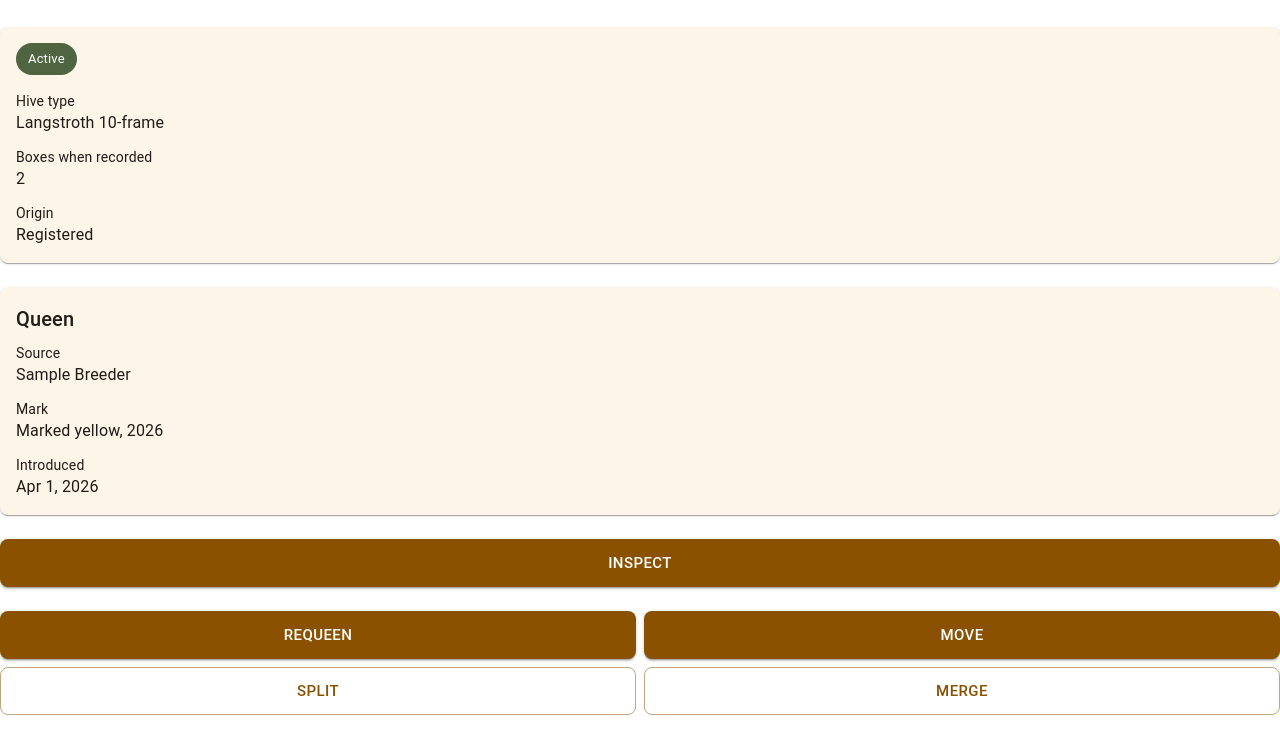
Test: ColonyDetail › should show the warning and keep the change when the API records a requeen with one
Click the button "Requeen". click: (318, 635)
box: left=0, top=611, right=636, bottom=659
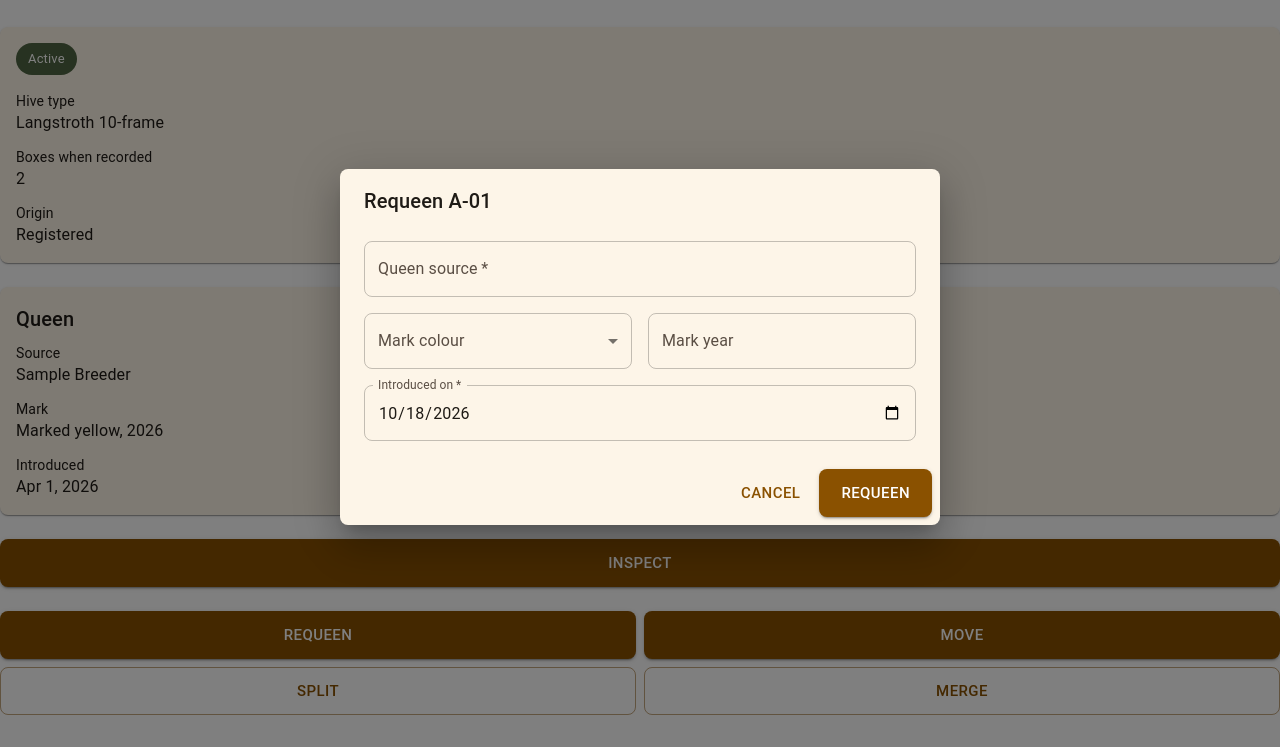
Type "Raised here" into the field labelled "Queen source *". click: (640, 269)
box: left=364, top=241, right=916, bottom=297
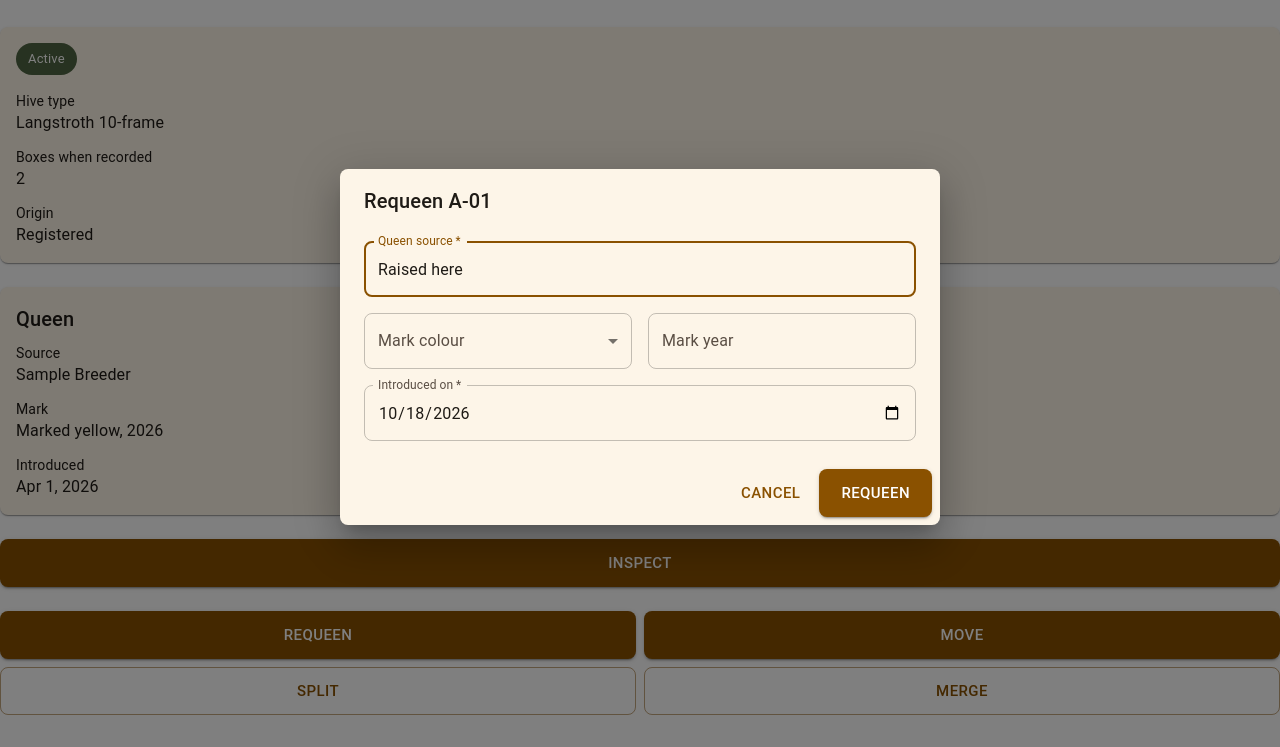
Click the button "Requeen". click: (876, 493)
box: left=819, top=469, right=932, bottom=517
(page scrolled)
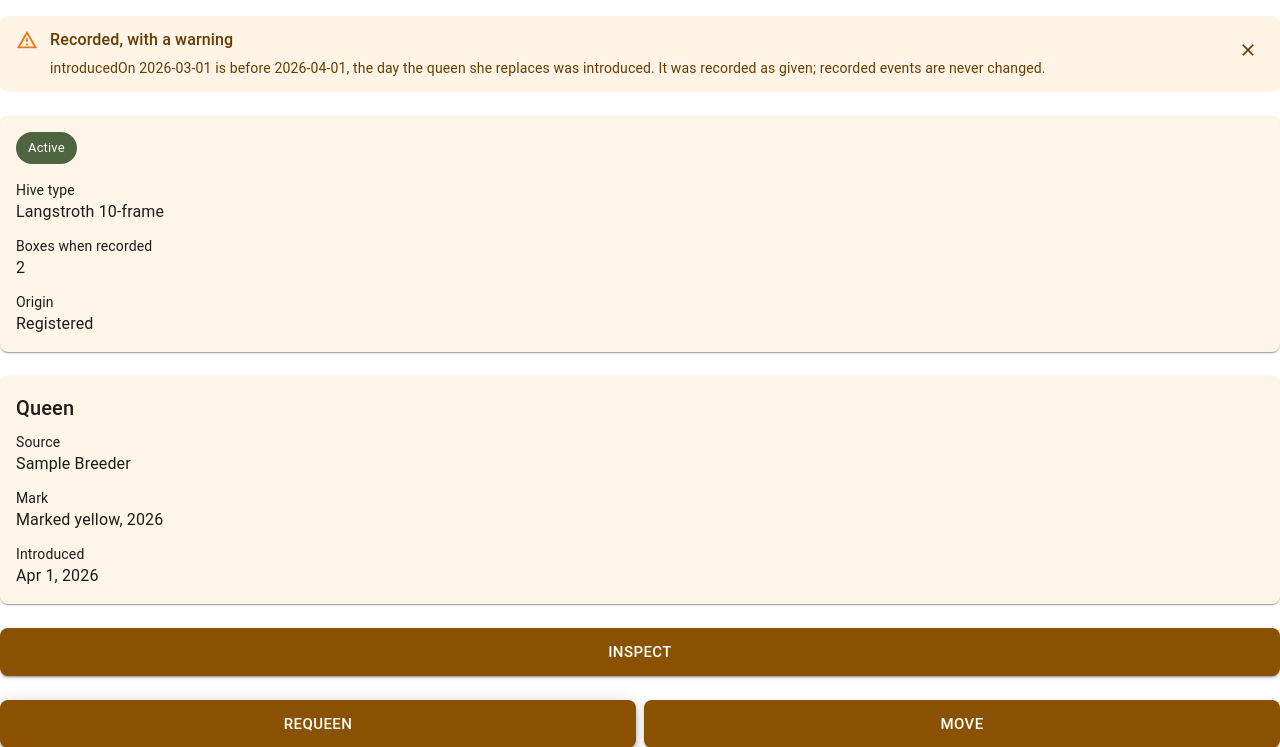
Now the dialog is gone
Now the message shows "Recorded, with a warning", box left=50, top=30, right=233, bottom=49
Now the message shows "introducedOn 2026-03-01 is before 2026-04-01, the day the queen she replaces was introduced.", box left=50, top=60, right=1046, bottom=76
Click the button named "Dismiss". click: (1248, 50)
box: left=1224, top=26, right=1272, bottom=74
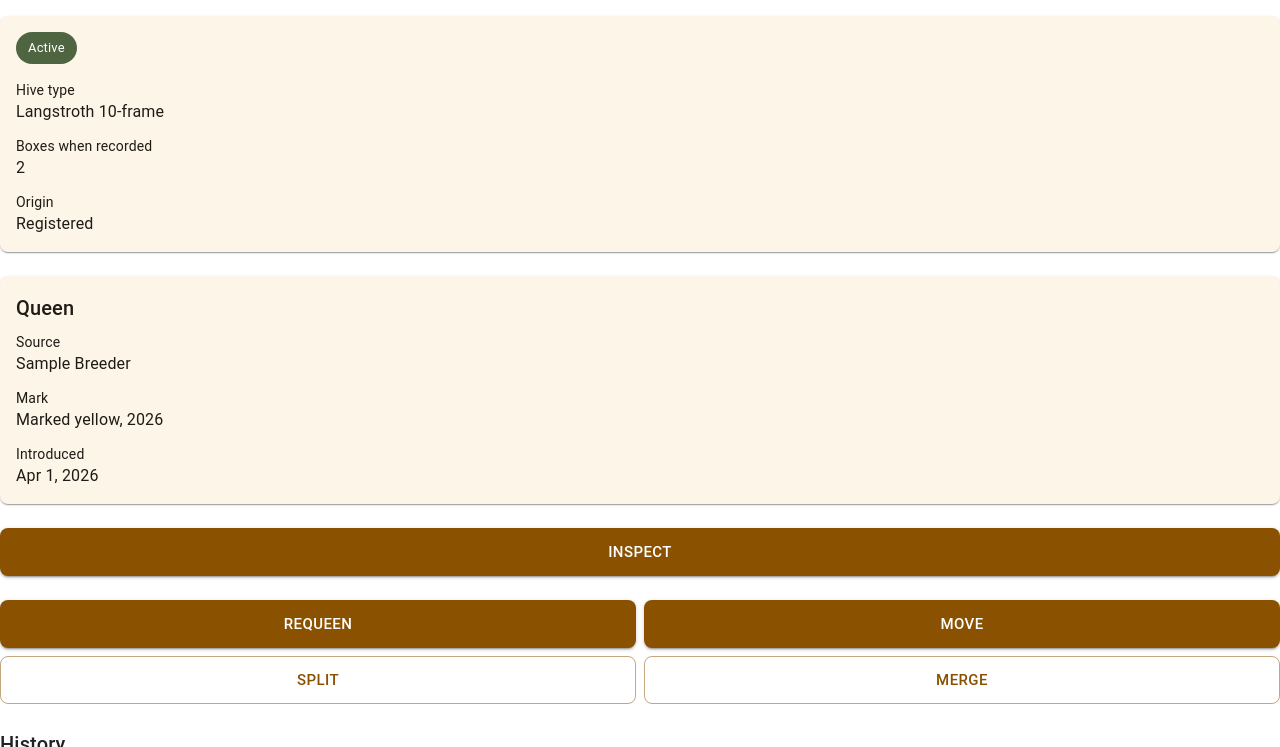
Now the message is gone
